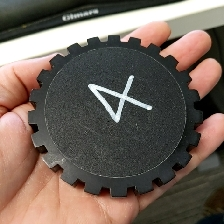gear: (26, 33, 204, 199)
